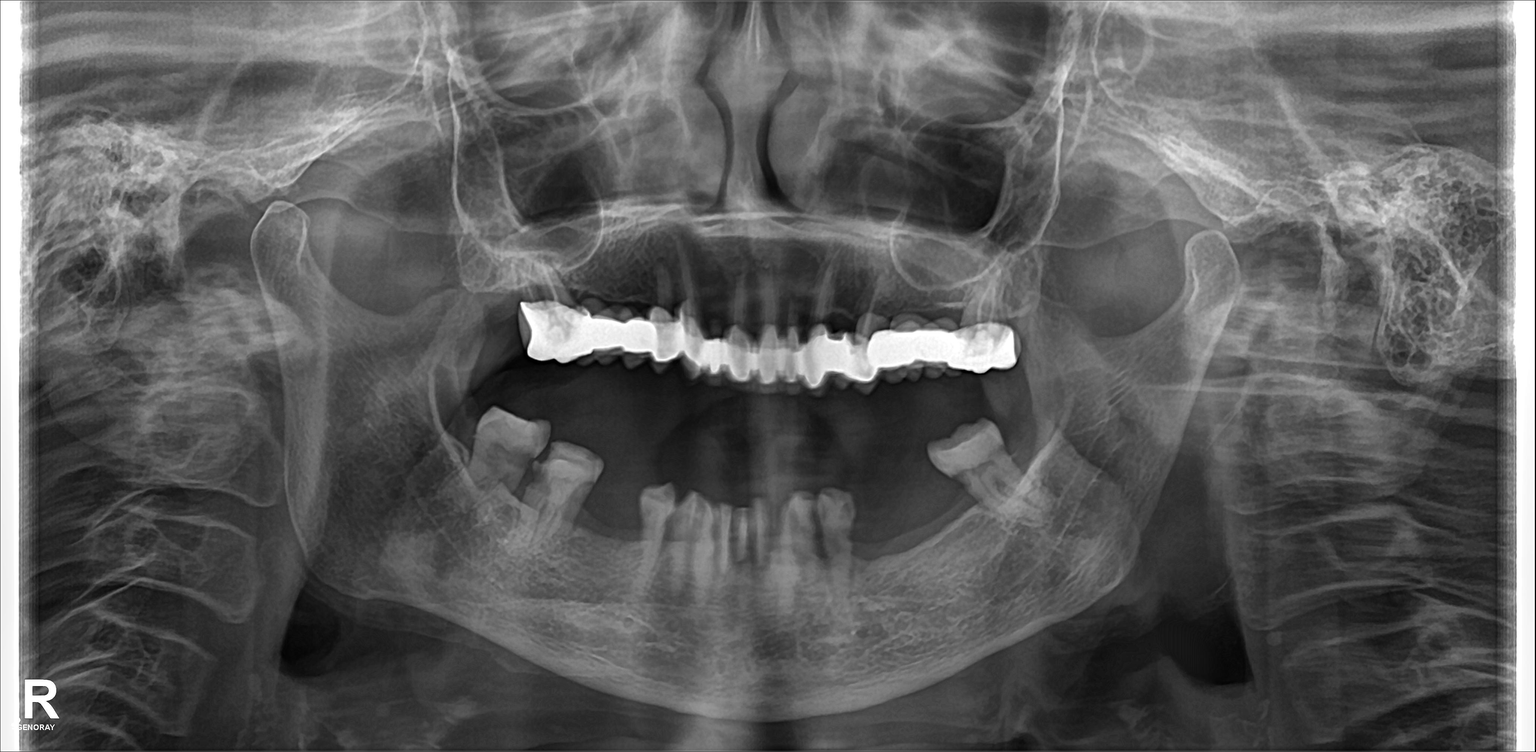Endodontically Treated Tooth: (514, 283, 557, 377), (562, 282, 602, 368), (687, 307, 721, 392), (605, 290, 642, 367), (484, 298, 520, 365), (657, 296, 687, 374), (760, 315, 790, 386), (864, 320, 898, 381), (827, 316, 858, 381), (899, 313, 930, 378), (790, 318, 818, 386), (730, 307, 752, 387), (974, 309, 997, 369), (946, 313, 967, 372)
Impacted Third Molar: (940, 424, 1028, 500)
Missing Tooth: (425, 396, 477, 472), (594, 478, 636, 566), (857, 501, 895, 575), (931, 482, 970, 554), (909, 493, 924, 562)
